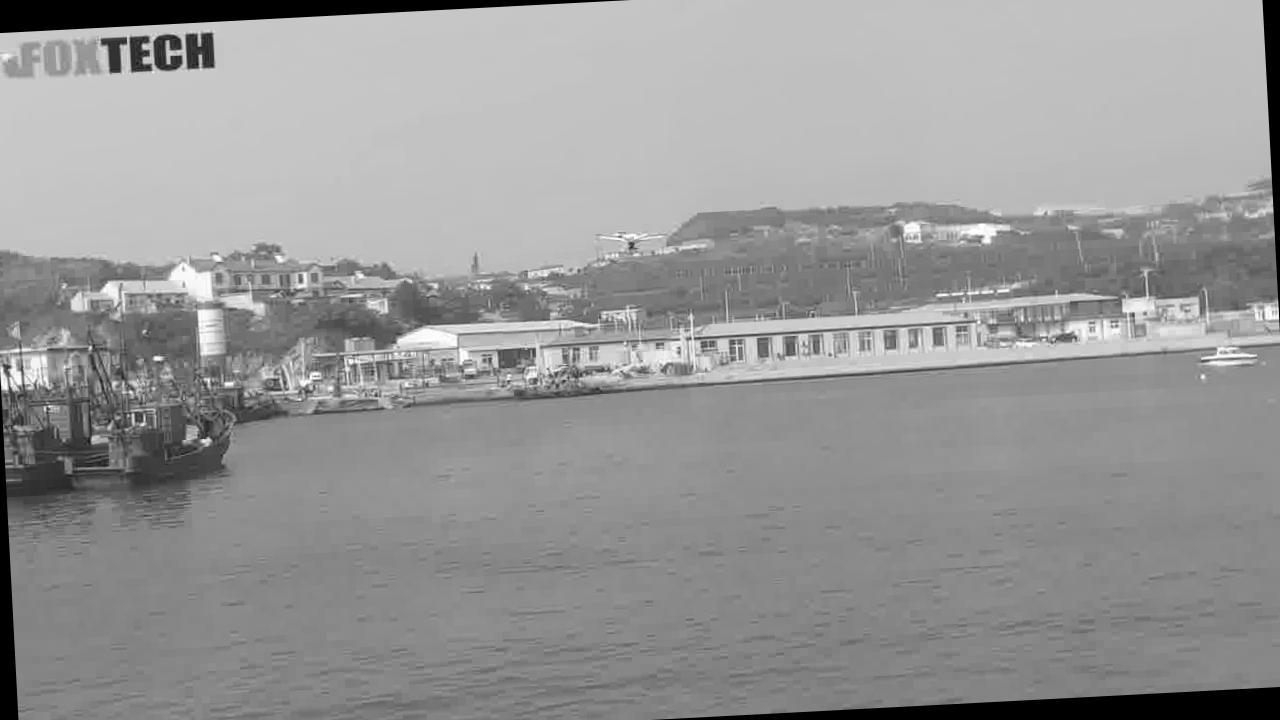drone: (596, 223, 669, 252)
